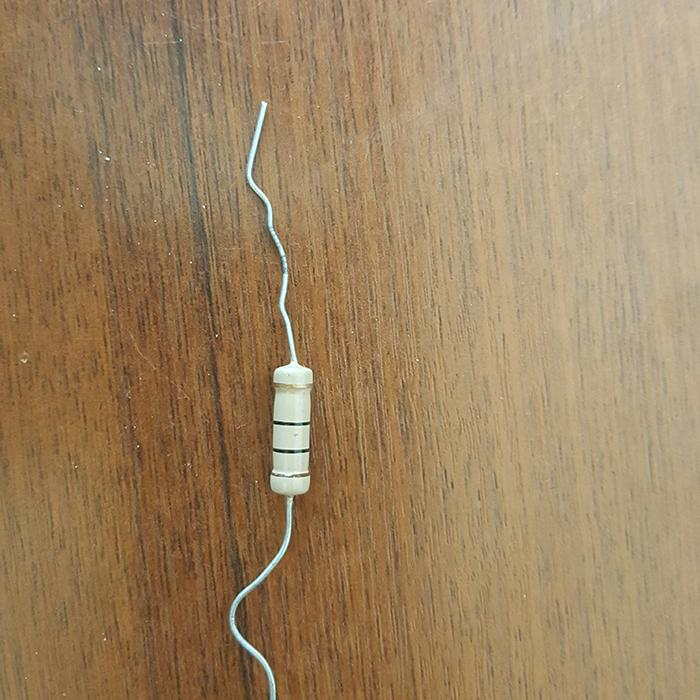resistor: (269, 363, 313, 496)
